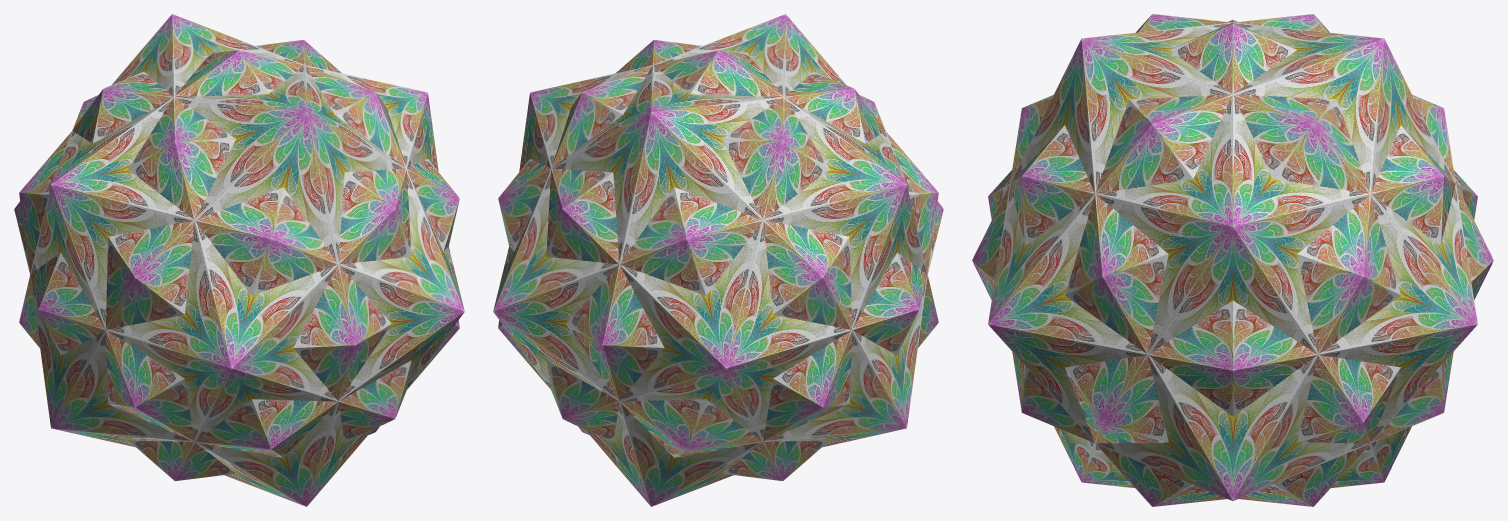
Rendered from MedialDeltoidalHexecontahedron6.obj.
3 renders of one model, left to right at view 1: azimuth 30°, elevation 25°; view 2: azimuth 150°, elevation 25°; view 3: azimuth 270°, elevation 25°, orthographic. The views are drawn at different scales.
Size of the model in its own units: 2.68 by 2.68 by 2.68.
1 material, 1 textured.
